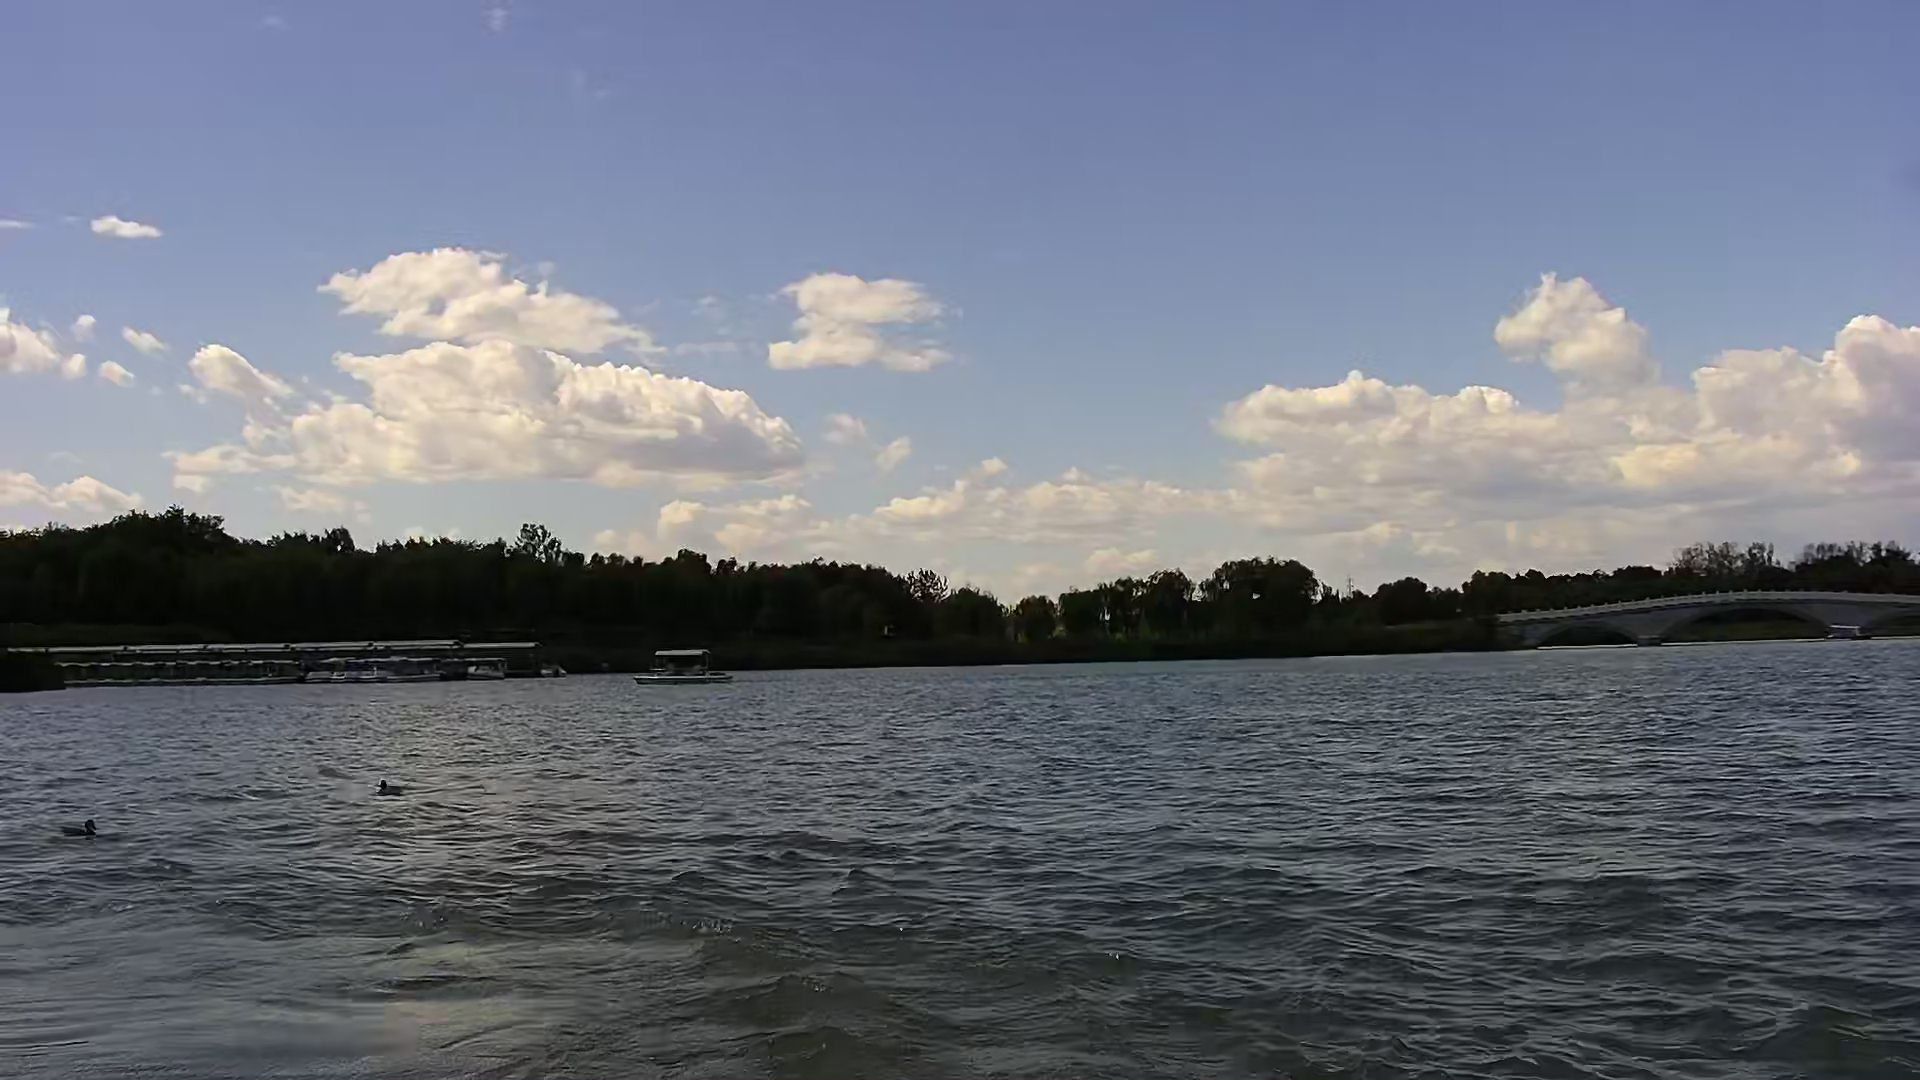animal: (54, 820, 105, 843), (373, 777, 411, 803)
boat: (632, 649, 737, 684)
bridge: (1497, 589, 1920, 655)
harbor: (1, 637, 563, 687)
